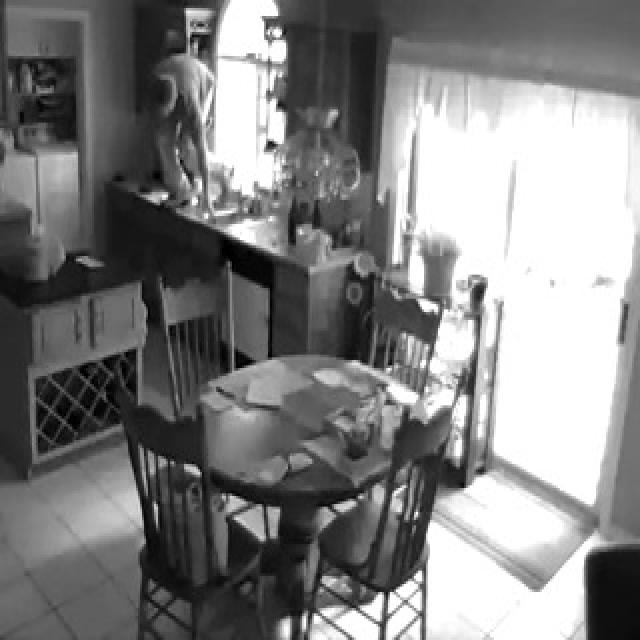thief: (137, 48, 212, 215)
